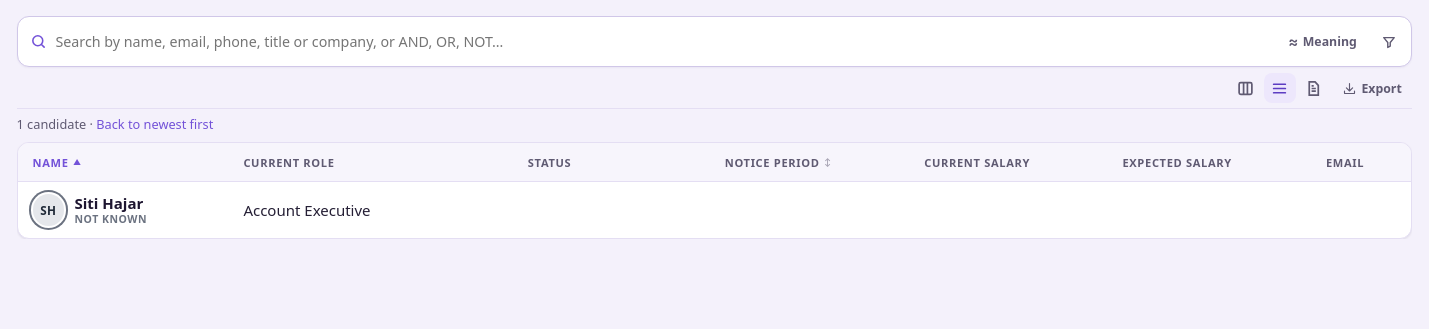
Test: searching candidates by meaning › exports those the search by meaning found, not everyone; a word search as before
This screenshot has width=1429, height=329.
Later steps or results of the test are not shown.
Expected: the link "Siti Hajar" is shown, x1=74 y1=193 x2=143 y2=213
Click the button "≈ Meaning" at {"x": 1322, "y": 42}, box x1=1278 y1=27 x2=1366 y2=56
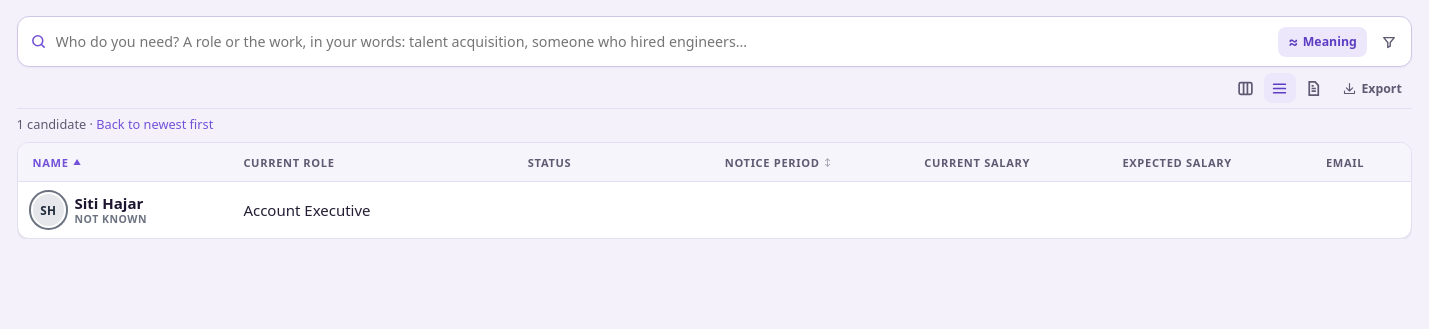
Replace the text in the field named "Search candidates by meaning" with "accounts executive" at {"x": 663, "y": 42}, box x1=52 y1=22 x2=1273 y2=62
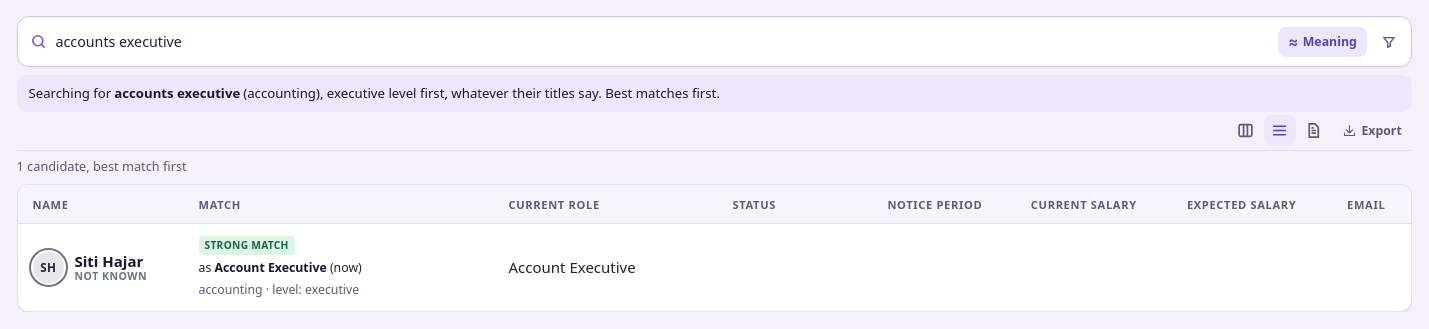
Expected: the text "1 candidate, best match first" is shown, x1=16 y1=157 x2=187 y2=177
